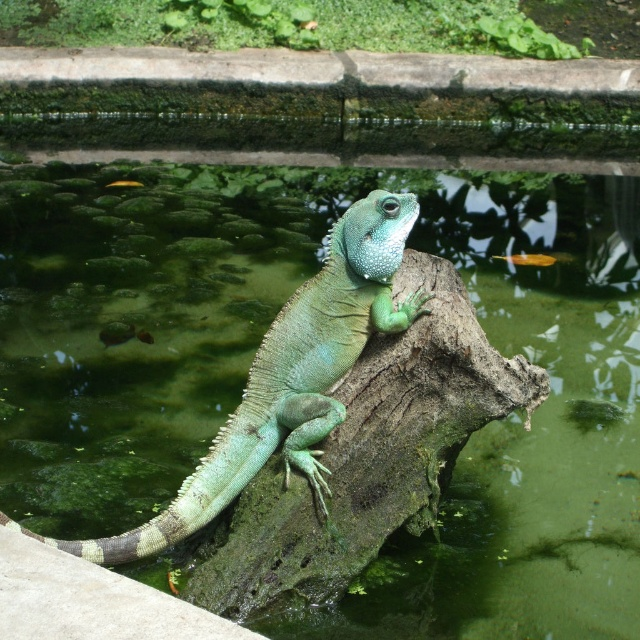Lizard: (74, 181, 440, 591)
